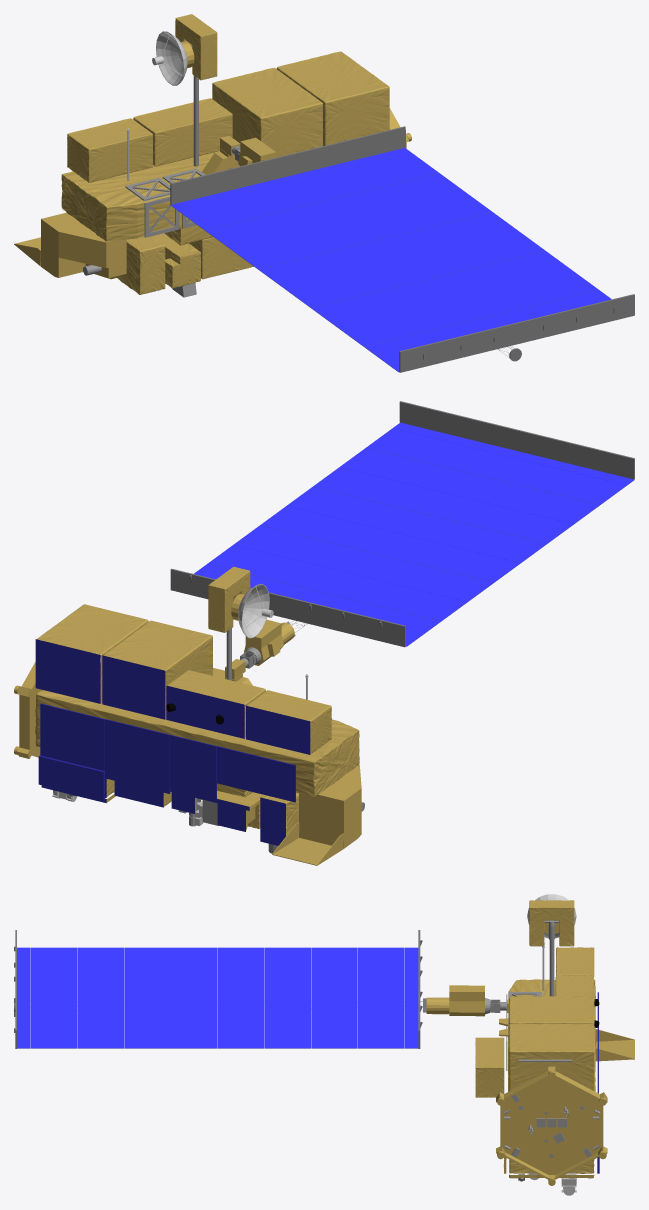
Rendered from terra.glb.
3 renders of one model, top to bottom at view 1: azimuth 30°, elevation 25°; view 2: azimuth 150°, elevation 25°; view 3: azimuth 270°, elevation 25°, orthographic. The views are drawn at different scales.
Parts seen in each view (by area): view 1: Terra_vFINAL [Layer17], Terra_vFINAL [Layer1], Terra_vFINAL [Layer16], Terra_vFINAL [Layer18], Terra_vFINAL [Layer19], Terra_vFINAL [Layer20]; view 2: Terra_vFINAL [Layer17], Terra_vFINAL [Layer15], Terra_vFINAL [Layer1], Terra_vFINAL [Layer16], Terra_vFINAL [Layer18], Terra_vFINAL [Layer20], Terra_vFINAL [Layer19]; view 3: Terra_vFINAL [Layer17], Terra_vFINAL [Layer1], Terra_vFINAL [Layer18], Terra_vFINAL [Layer19], Terra_vFINAL [Layer16], Terra_vFINAL [Layer21].
Part boxes in pixels (<box>): Terra_vFINAL [Layer17]: <box>171,148,611,371</box>; Terra_vFINAL [Layer1]: <box>61,14,389,294</box>; Terra_vFINAL [Layer16]: <box>170,126,634,372</box>; Terra_vFINAL [Layer18]: <box>14,41,411,279</box>; Terra_vFINAL [Layer19]: <box>83,75,240,297</box>; Terra_vFINAL [Layer20]: <box>152,31,187,85</box>; Terra_vFINAL [Layer17]: <box>194,422,634,646</box>; Terra_vFINAL [Layer15]: <box>35,639,310,845</box>; Terra_vFINAL [Layer1]: <box>35,566,359,835</box>; Terra_vFINAL [Layer16]: <box>170,401,634,647</box>; Terra_vFINAL [Layer18]: <box>14,593,361,865</box>; Terra_vFINAL [Layer20]: <box>238,584,273,638</box>; Terra_vFINAL [Layer19]: <box>69,628,364,853</box>; Terra_vFINAL [Layer17]: <box>17,947,418,1048</box>; Terra_vFINAL [Layer1]: <box>475,900,595,1178</box>; Terra_vFINAL [Layer18]: <box>426,920,634,1185</box>; Terra_vFINAL [Layer19]: <box>485,920,600,1181</box>; Terra_vFINAL [Layer16]: <box>14,930,426,1048</box>; Terra_vFINAL [Layer21]: <box>527,946,576,1195</box>.
Bounding box in the file's own units: 13622 × 10277 × 26054.
